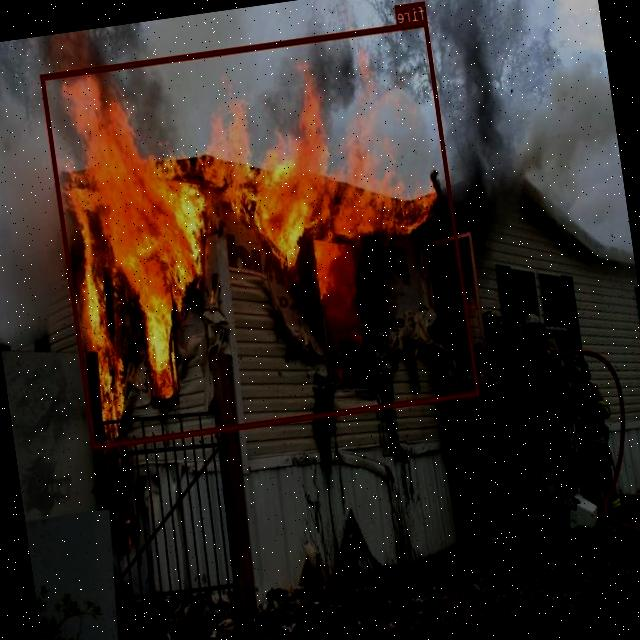fire: (41, 20, 480, 449)
